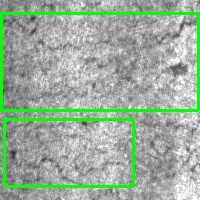crazing: (1, 13, 198, 110), (4, 119, 133, 186)
